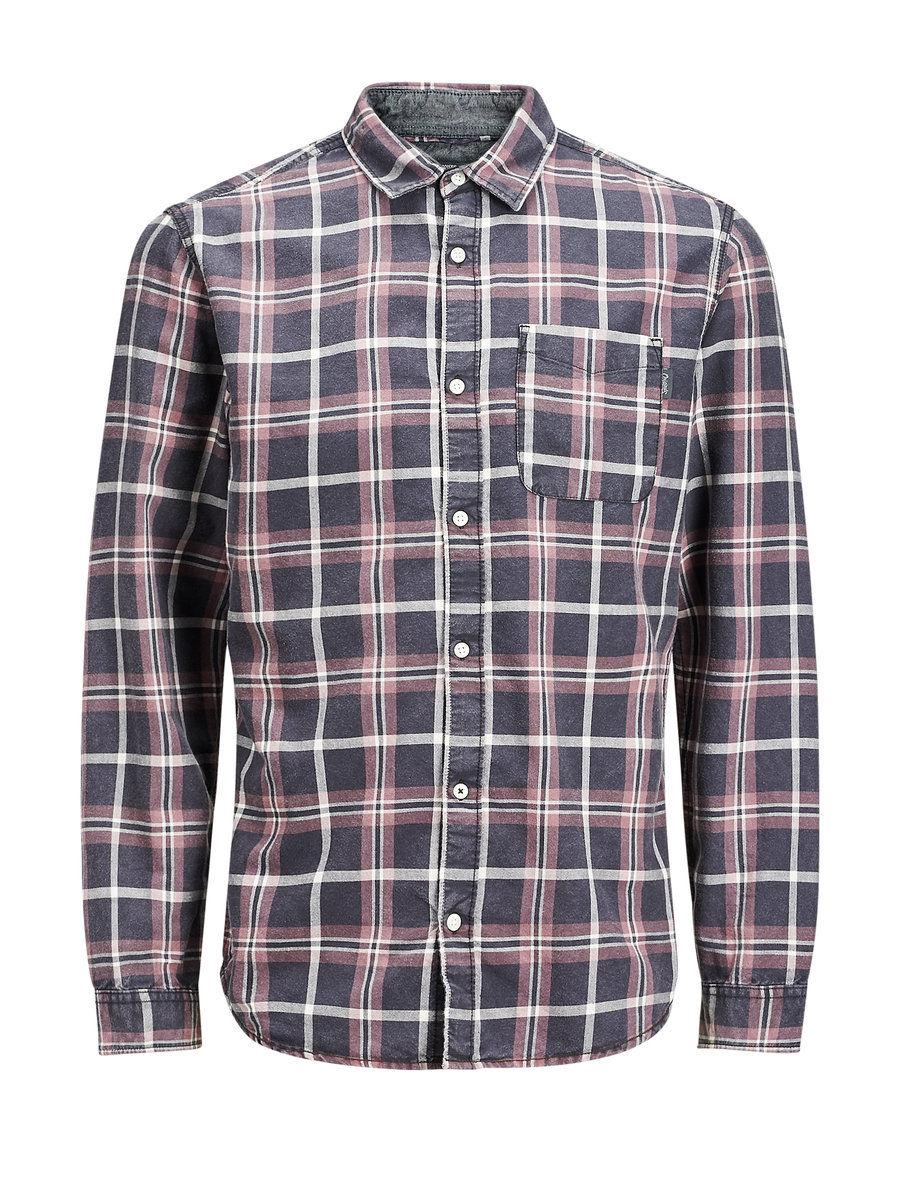teeshirt: (65, 69, 847, 1102)
